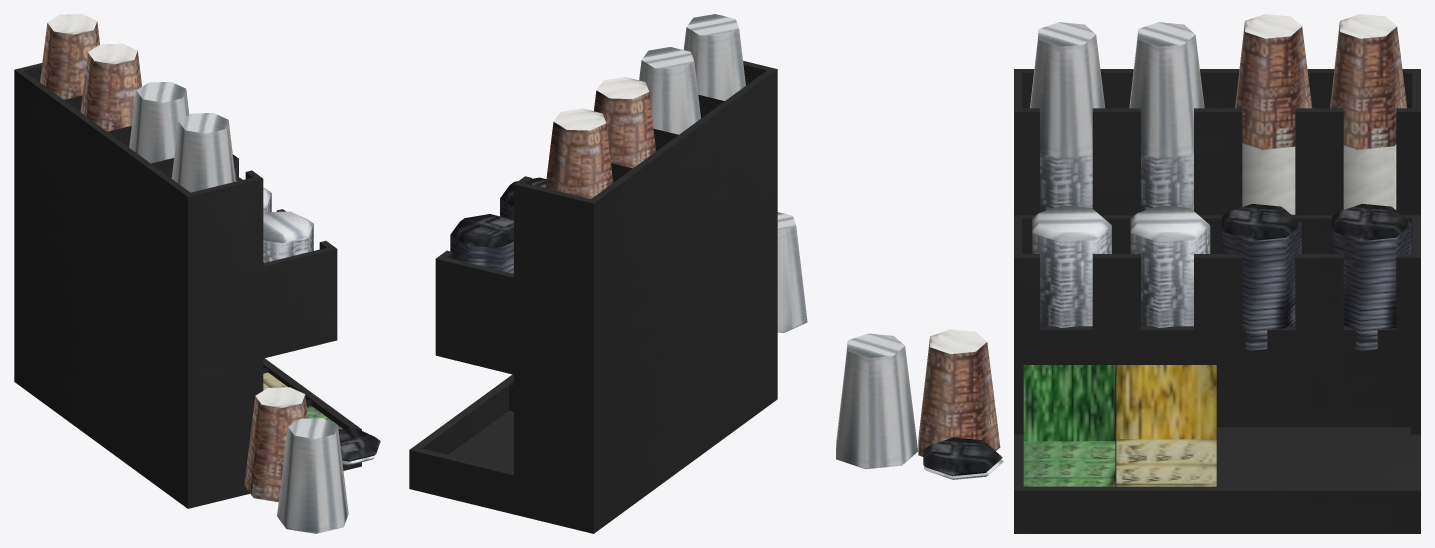
File: Additional_Cup_holder.dae
3 renders of one model, left to right at view 1: azimuth 30°, elevation 25°; view 2: azimuth 150°, elevation 25°; view 3: azimuth 270°, elevation 25°, orthographic. The views are drawn at different scales.
Parts seen in each view (by area): view 1: Additional_Cup_holder.001, Cup_Plastic.001, Cup_Paper.001, Cups_Paper.001, Cups_Plastic.001, Cups_Paper_01.001, Cups_Plastic_01.001, Tops_Cup_Plastic.001, Top_Cup_Plastic_B.001; view 2: Additional_Cup_holder.001, Cups_Paper_01.001, Cups_Paper.001, Cups_Plastic.001, Cups_Plastic_01.001, Tops_Cup_Plastic_B_01.001, Cup_Plastic.001, Tops_Cup_Plastic_B.001; view 3: Additional_Cup_holder.001, Additional_01.001, Cups_Paper.001, Cups_Paper_01.001, Additional.001, Cups_Plastic.001, Cups_Plastic_01.001, Cup_Plastic.001, Tops_Cup_Plastic_B.001, Tops_Cup_Plastic_B_01.001, Cup_Paper.001, Tops_Cup_Plastic_01.001 (+2 smaller).
Boxes of the visible parts, bbox=[...] form: Additional_Cup_holder.001: bbox=[14, 63, 361, 508]; Cup_Plastic.001: bbox=[277, 418, 348, 533]; Cup_Paper.001: bbox=[244, 387, 307, 502]; Cups_Paper.001: bbox=[80, 43, 141, 131]; Cups_Plastic.001: bbox=[171, 113, 235, 192]; Cups_Paper_01.001: bbox=[40, 14, 99, 99]; Cups_Plastic_01.001: bbox=[129, 82, 189, 163]; Tops_Cup_Plastic.001: bbox=[263, 211, 313, 262]; Top_Cup_Plastic_B.001: bbox=[338, 429, 380, 461]; Additional_Cup_holder.001: bbox=[409, 61, 777, 533]; Cups_Paper_01.001: bbox=[545, 108, 613, 199]; Cups_Paper.001: bbox=[594, 77, 656, 168]; Cups_Plastic.001: bbox=[683, 14, 745, 100]; Cups_Plastic_01.001: bbox=[639, 47, 700, 134]; Tops_Cup_Plastic_B_01.001: bbox=[450, 214, 513, 273]; Cup_Plastic.001: bbox=[777, 212, 807, 332]; Tops_Cup_Plastic_B.001: bbox=[500, 177, 546, 219]; Additional_Cup_holder.001: bbox=[1014, 69, 1420, 533]; Additional_01.001: bbox=[1116, 365, 1216, 486]; Cups_Paper.001: bbox=[1235, 14, 1312, 214]; Cups_Paper_01.001: bbox=[1330, 14, 1407, 209]; Additional.001: bbox=[1023, 365, 1115, 486]; Cups_Plastic.001: bbox=[1030, 22, 1105, 212]; Cups_Plastic_01.001: bbox=[1129, 22, 1204, 211]; Cup_Plastic.001: bbox=[836, 333, 918, 469]; Tops_Cup_Plastic_B.001: bbox=[1222, 203, 1301, 350]; Tops_Cup_Plastic_B_01.001: bbox=[1332, 203, 1411, 350]; Cup_Paper.001: bbox=[918, 329, 1000, 456]; Tops_Cup_Plastic_01.001: bbox=[1130, 205, 1210, 327].
Size of the model in its own units: 0.3233 by 0.8027 by 0.6489.
1 material, 1 textured.
